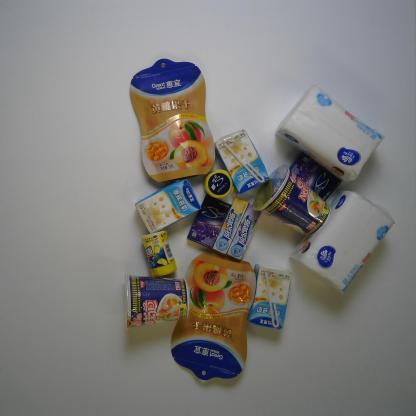Candy: (212, 197, 250, 254), (230, 202, 264, 262)
Dried Fruit: (130, 53, 218, 178), (171, 252, 256, 381)
Gum: (287, 151, 343, 199), (136, 227, 182, 277), (190, 198, 232, 248), (202, 170, 238, 199)
Instant Noodles: (254, 164, 328, 234), (125, 268, 196, 326)
Milk: (135, 173, 205, 235), (214, 129, 268, 192), (248, 264, 295, 329)
Tissue: (281, 78, 390, 177), (294, 191, 395, 292)
